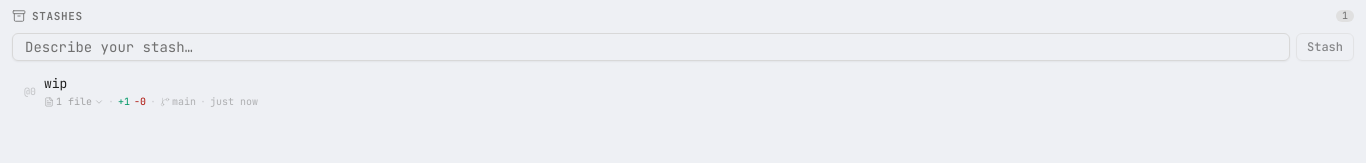
Scenario: GitStashSection stash selection › selects a stash via an accessible checkbox
This screenshot has width=1366, height=163.
Hover over the text "wip".
mouse_move(56, 83)  # box [44,74,67,92]
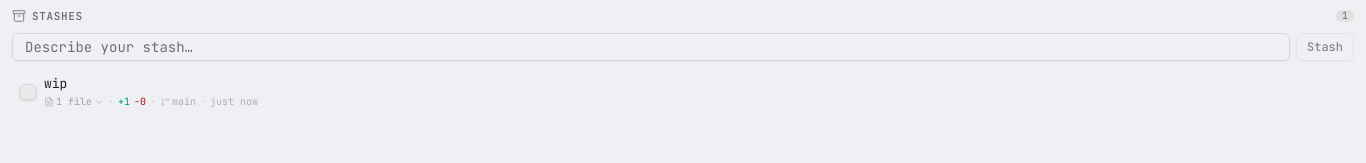
Click the checkbox.
click(28, 92)  # box [20,84,36,100]
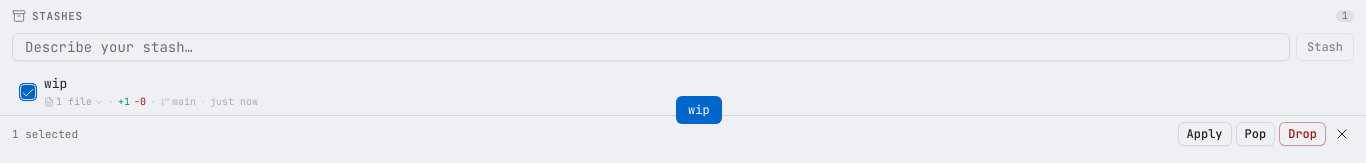
Now the checkbox is checked, box [20,84,36,100]
Now the text "1 selected" is shown, box [12,127,78,141]
